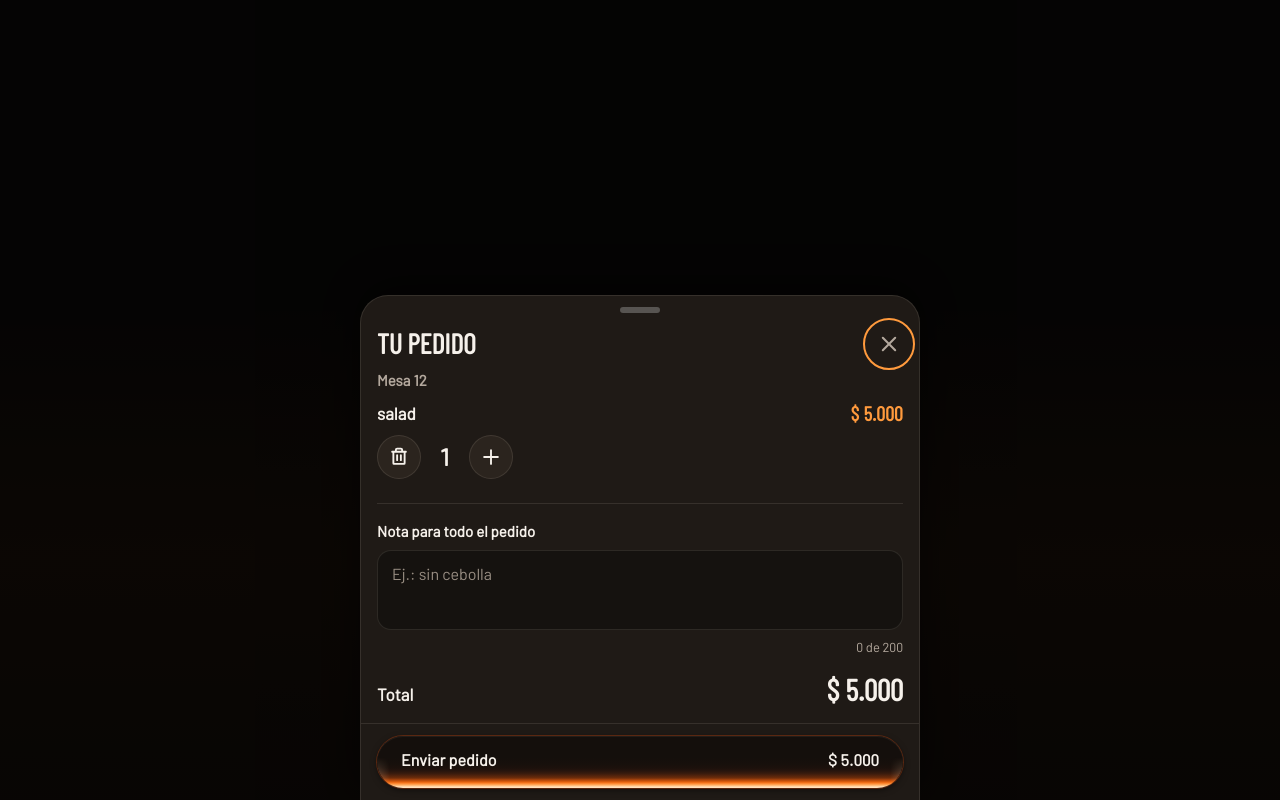
Test: CartSheet: resumen y envío del pedido (RF2, RF20-RF22, RF24-RF27, RF44; plan §5.4) › el restaurante rechaza el pedido (RF27, RF46) › VALIDATION avisa que revise cantidades y notas, y deja volver a enviar
What coordinates should you click on to do the following:
click the button "Enviar pedido $ 5.000"
I would click on:
 (449, 760)
Its box is [377,736,903,788].
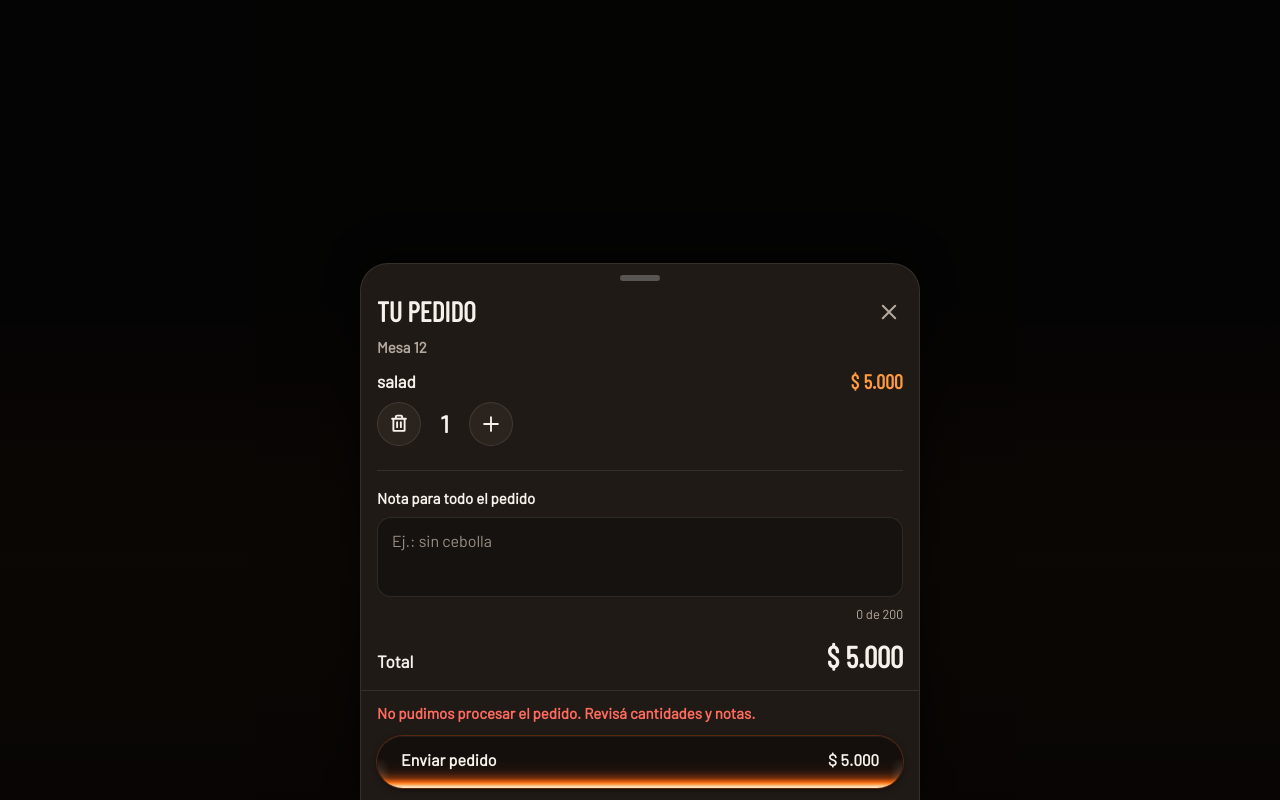
Check: the message reads "No pudimos procesar el pedido. Revisá cantidades y notas.", box [377,704,755,722]
